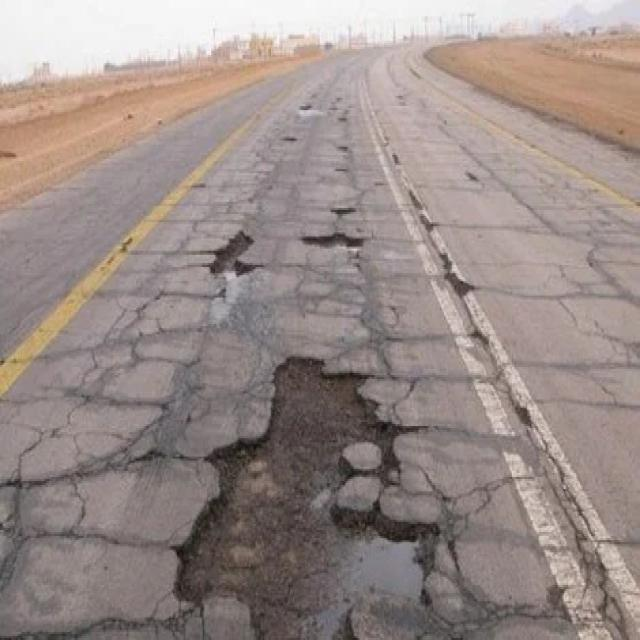p7: (178, 359, 380, 636), (211, 232, 260, 300)
